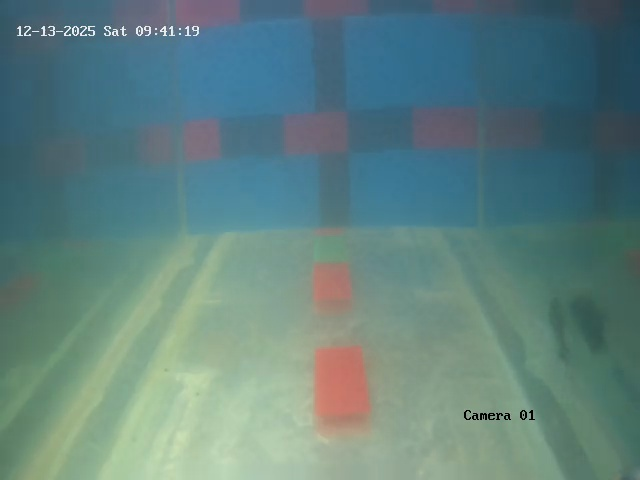fish: (545, 291, 579, 363)
